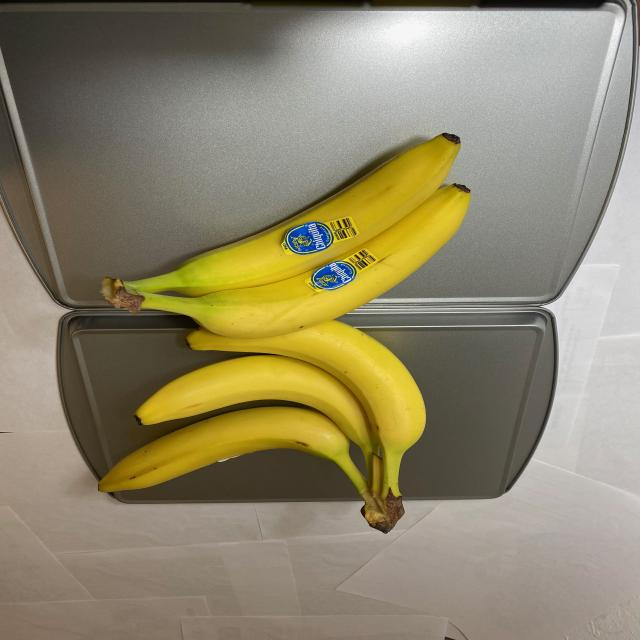banana: (89, 128, 478, 338), (91, 325, 426, 535)
